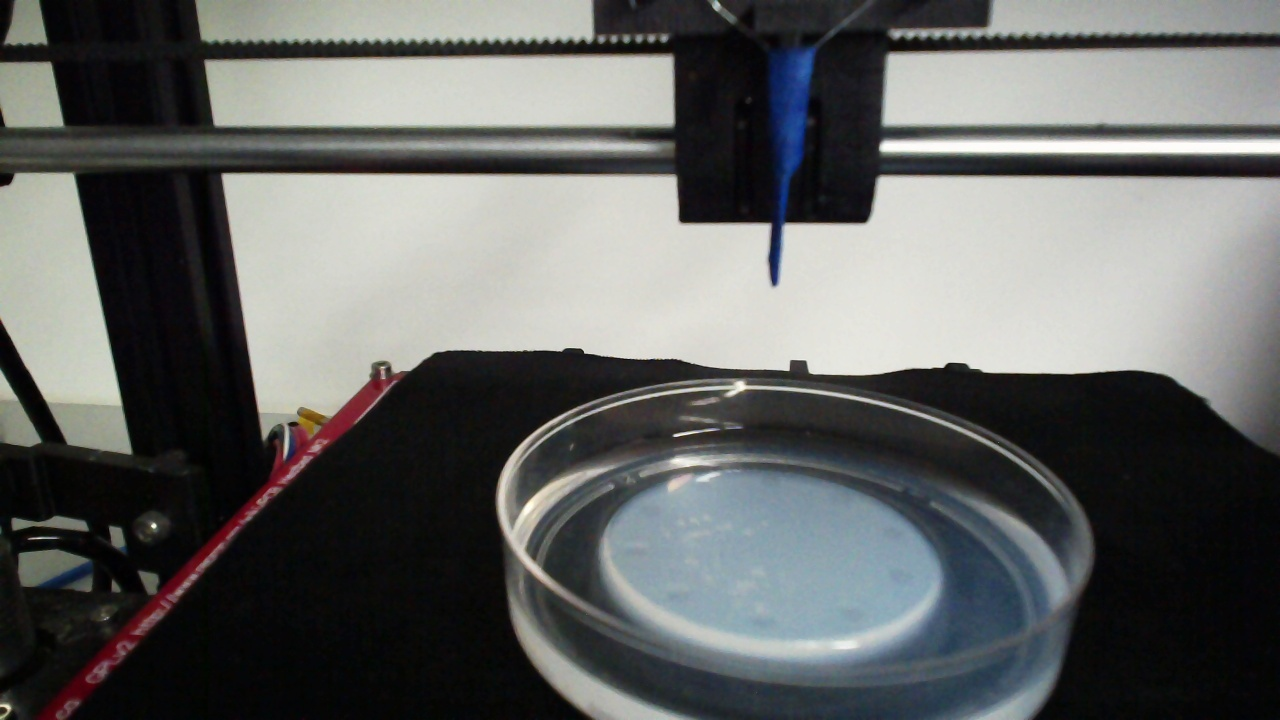groove: (826, 485, 853, 508), (621, 540, 650, 560), (887, 567, 914, 587), (664, 587, 691, 607), (750, 613, 777, 632), (841, 607, 867, 624), (881, 526, 908, 542), (639, 503, 663, 521), (760, 471, 782, 490)
needle: (768, 48, 811, 285)
